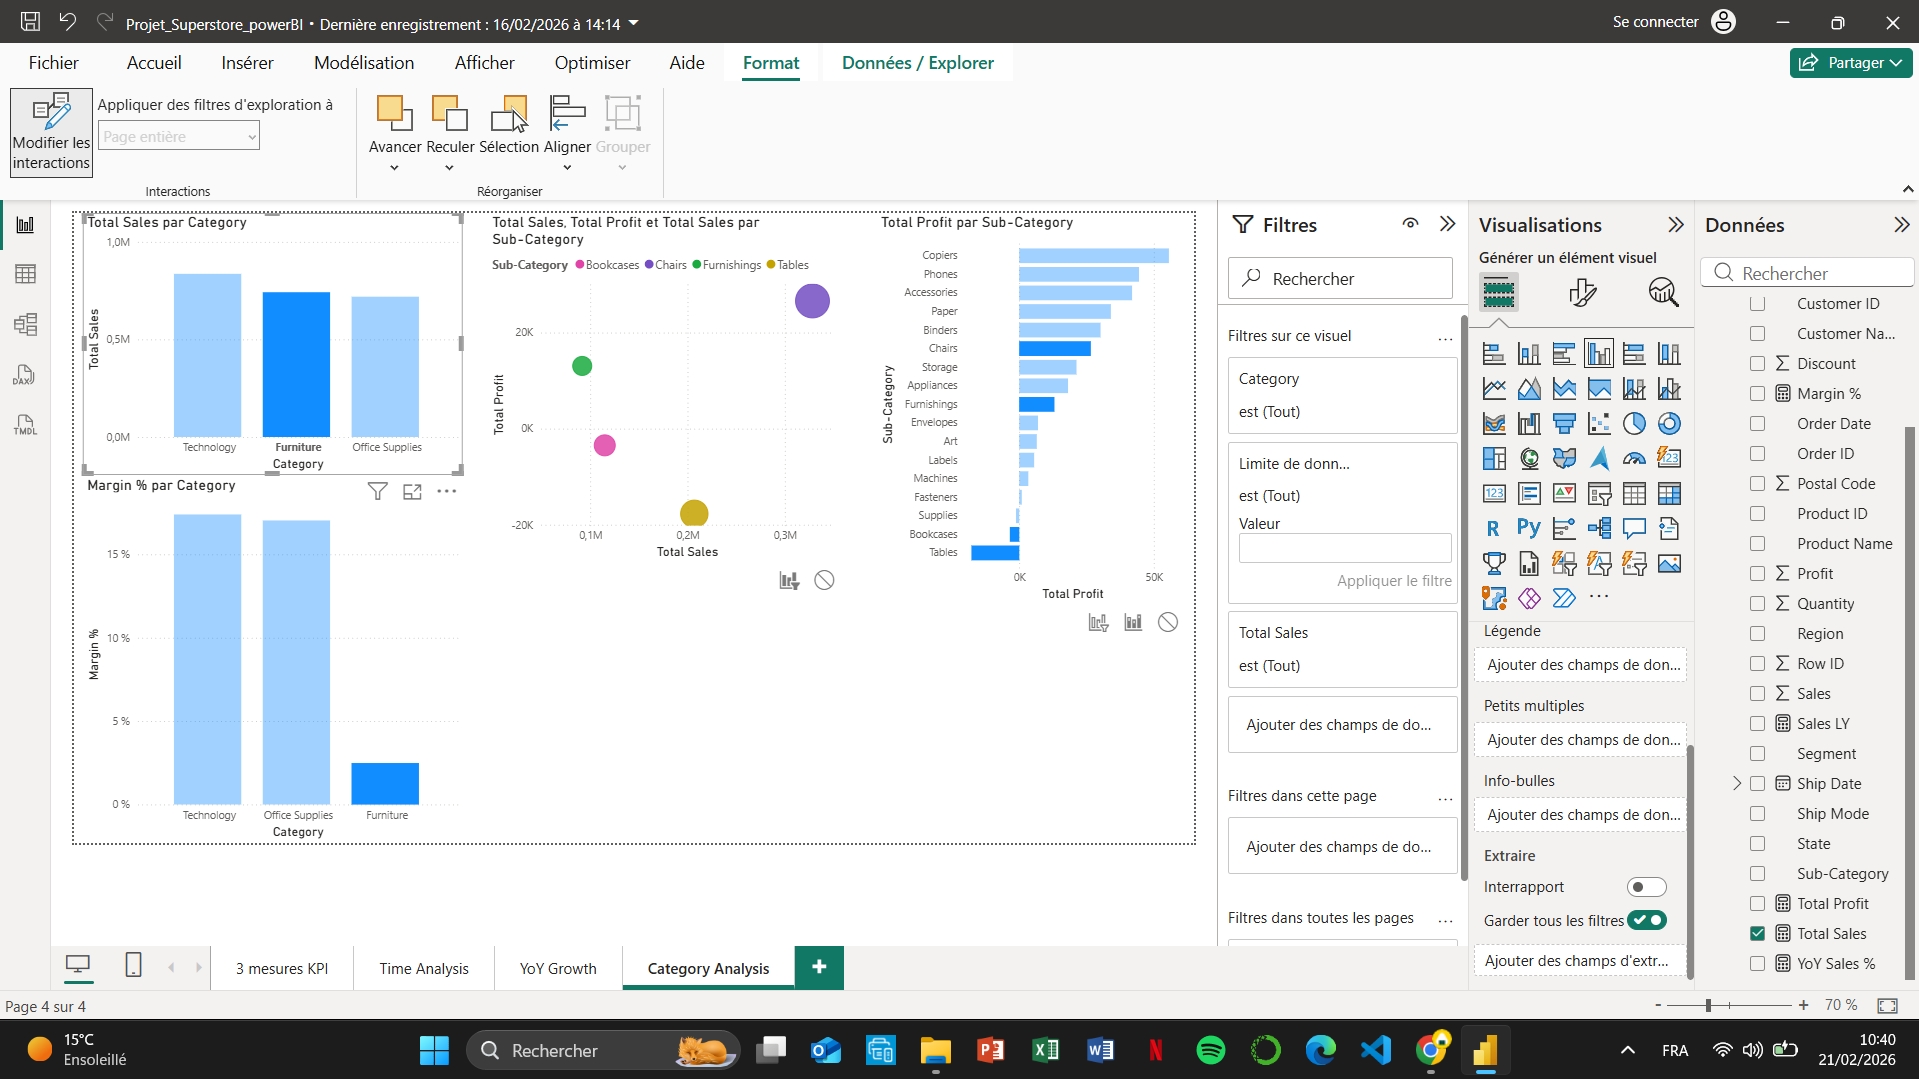

The page's visual inventory and layout, read from the dashboard file:
{"tool":"powerbi","page":{"name":"Category Analysis","canvas":[1280,720],"ordinal":3},"visuals":[{"type":"clusteredColumnChart","fields":{"Category":["Fact_Sales.Category"],"Y":["Fact_Sales.Total Sales"]},"box":[10,0,434.3,300],"z":0},{"type":"clusteredBarChart","fields":{"Category":["Fact_Sales.Sub-Category"],"Y":["Fact_Sales.Total Profit"]},"box":[917.1,0,362.9,448.6],"z":1},{"type":"clusteredColumnChart","fields":{"Category":["Fact_Sales.Category"],"Y":["Fact_Sales.Margin %"]},"box":[10,300,434.3,420],"z":2},{"type":"scatterChart","fields":{"X":["Fact_Sales.Total Sales"],"Y":["Fact_Sales.Total Profit"],"Series":["Fact_Sales.Sub-Category"],"Size":["Fact_Sales.Total Sales"]},"box":[472.9,0,414.3,400],"z":3}]}

Visuals, with their boxes on the page's 1280x720 design canvas (x1, y1, x2, y2). These are canvas units, not pixel positions in the 1919x1079 screenshot, which may show the page scaled, cropped or inside an application window:
clusteredColumnChart - Fact_Sales.Category x Fact_Sales.Total Sales: pyautogui.locateOnScreen(10, 0, 444, 300)
clusteredBarChart - Fact_Sales.Sub-Category x Fact_Sales.Total Profit: pyautogui.locateOnScreen(917, 0, 1280, 449)
clusteredColumnChart - Fact_Sales.Category x Fact_Sales.Margin %: pyautogui.locateOnScreen(10, 300, 444, 720)
scatterChart - Fact_Sales.Total Sales x Fact_Sales.Total Profit: pyautogui.locateOnScreen(473, 0, 887, 400)
